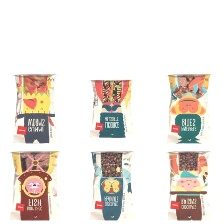snack: (2, 148, 66, 223), (157, 69, 217, 148), (81, 147, 142, 224), (157, 148, 217, 223), (6, 70, 63, 147), (81, 75, 141, 141)
